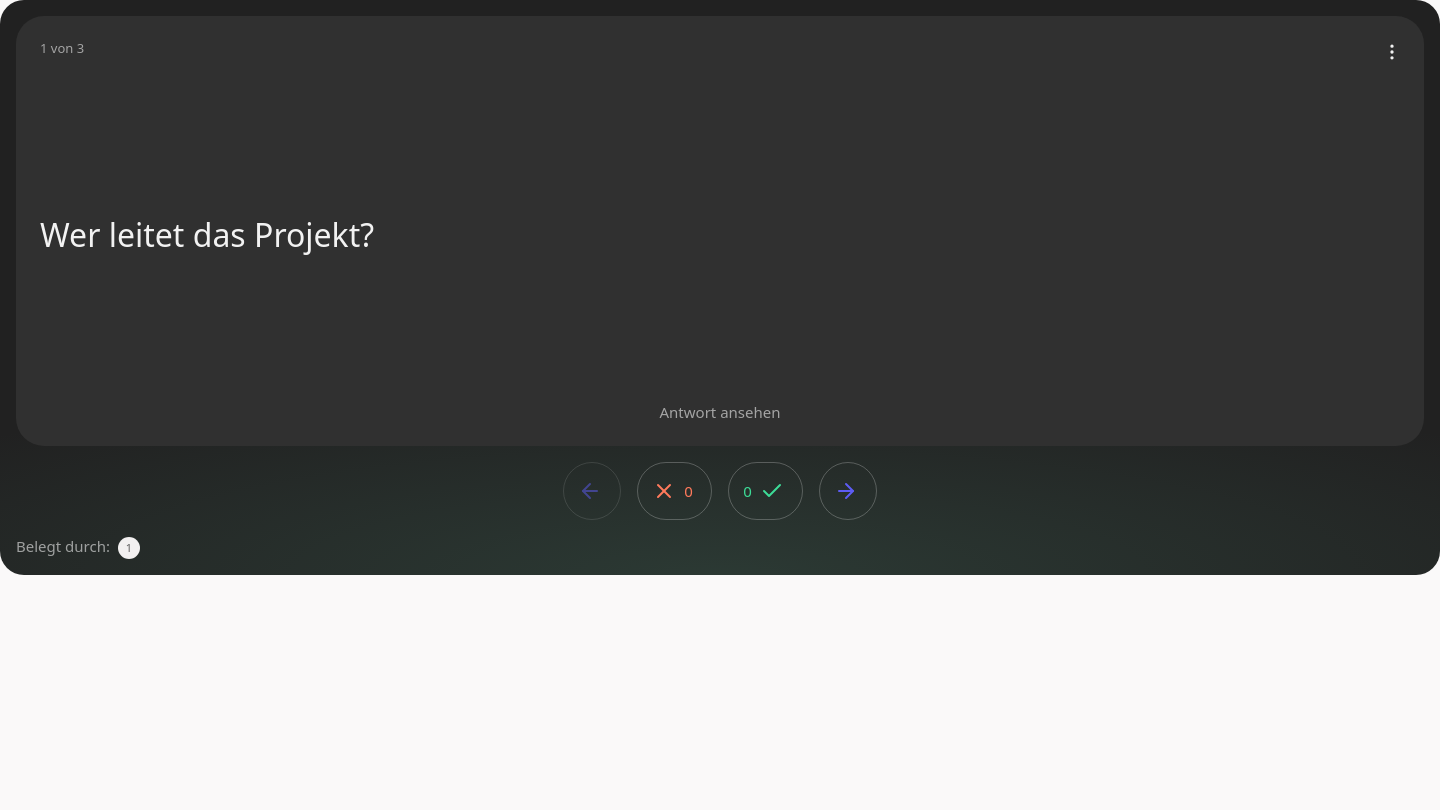
Test: FlashcardsView › moves with the round buttons and stops at both ends
Check: the button named "Vorherige Karte" is disabled, box [563,462,621,520]
Click the button named "Nächste Karte" at (848, 491), box [819,462,877,520]
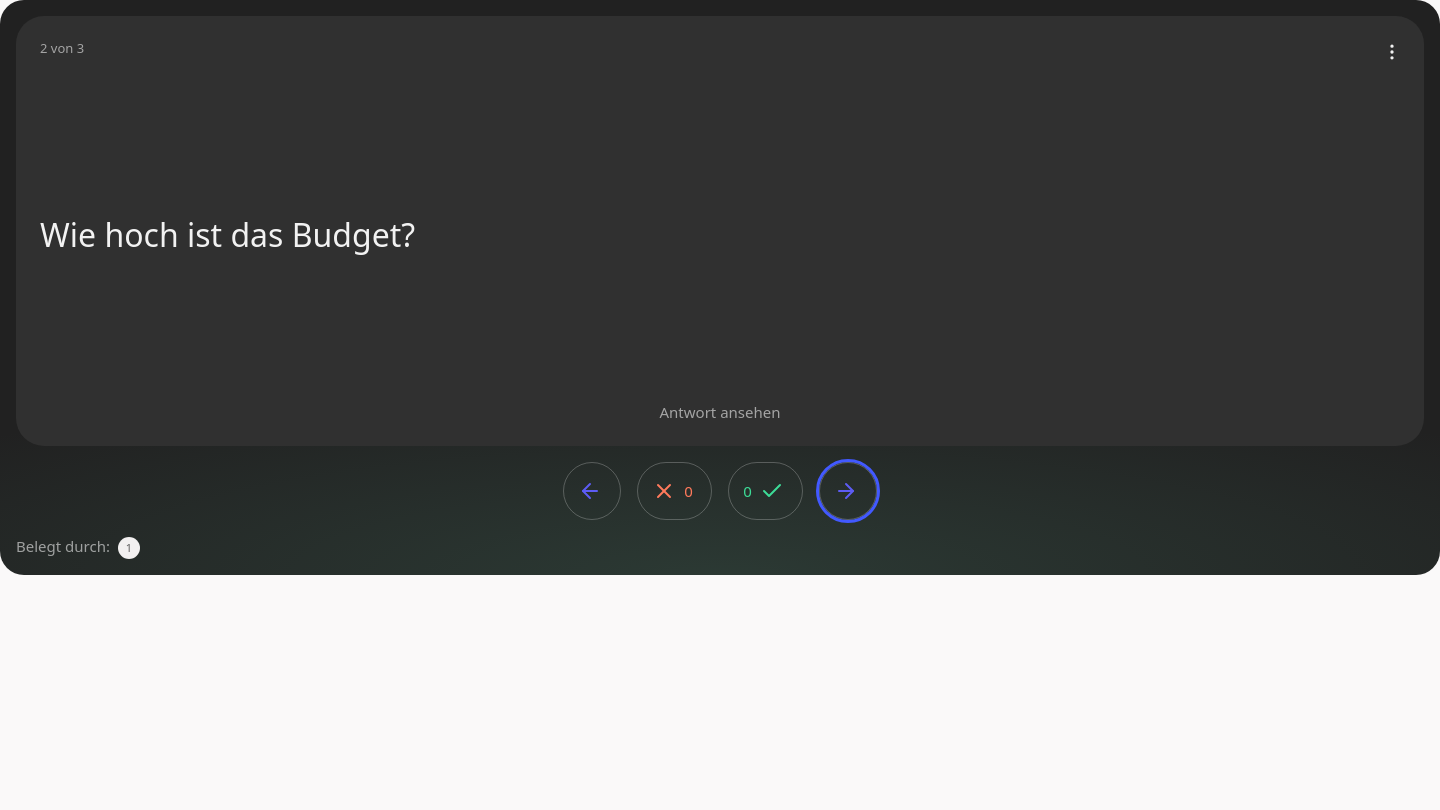
Check: the text "Wie hoch ist das Budget?" is shown, box [40,213,415,256]
Check: the text "2 von 3" is shown, box [40,40,84,57]
Click the button named "Nächste Karte" at (848, 491), box [819,462,877,520]
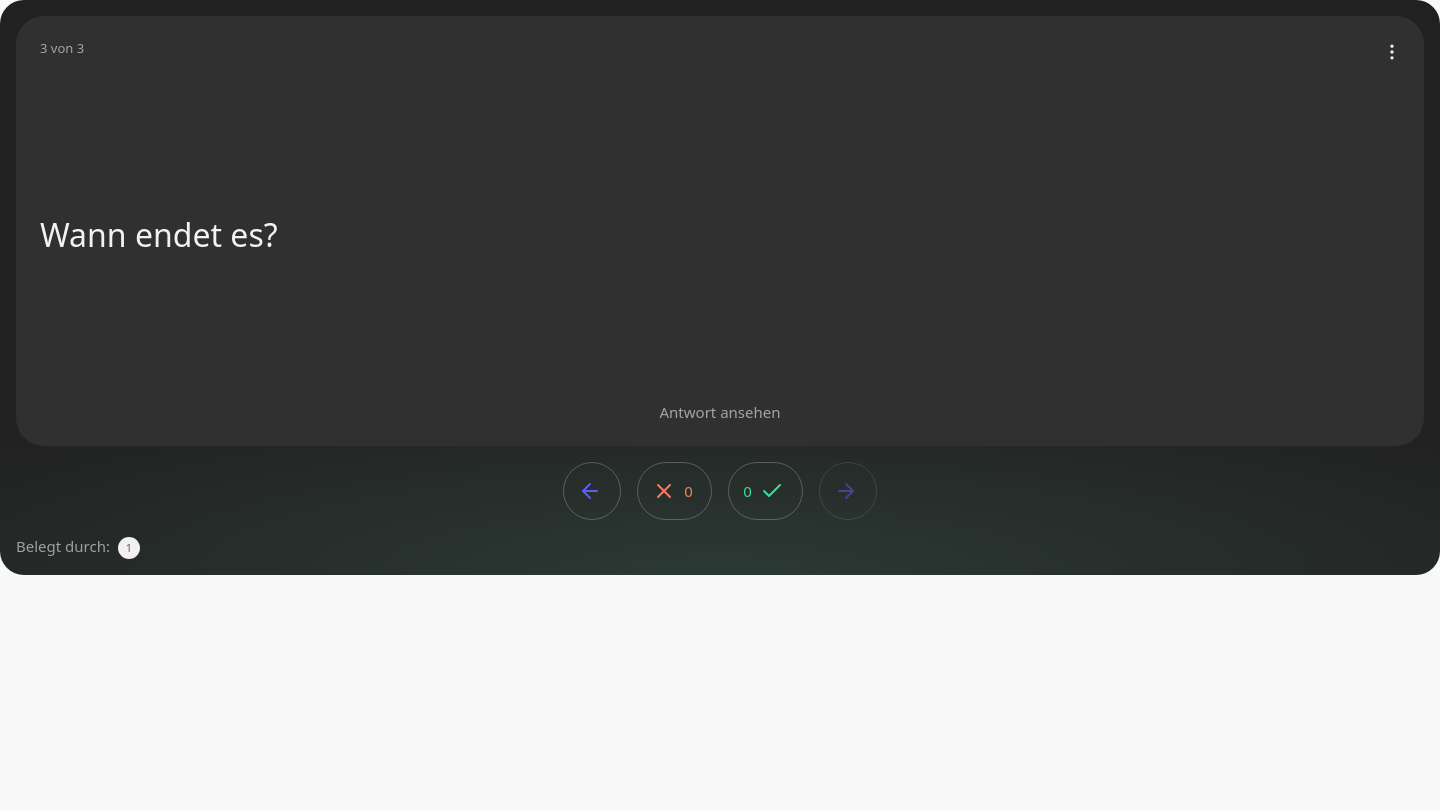
Check: the button named "Nächste Karte" is disabled, box [819,462,877,520]
Click the button named "Vorherige Karte" at (592, 491), box [563,462,621,520]
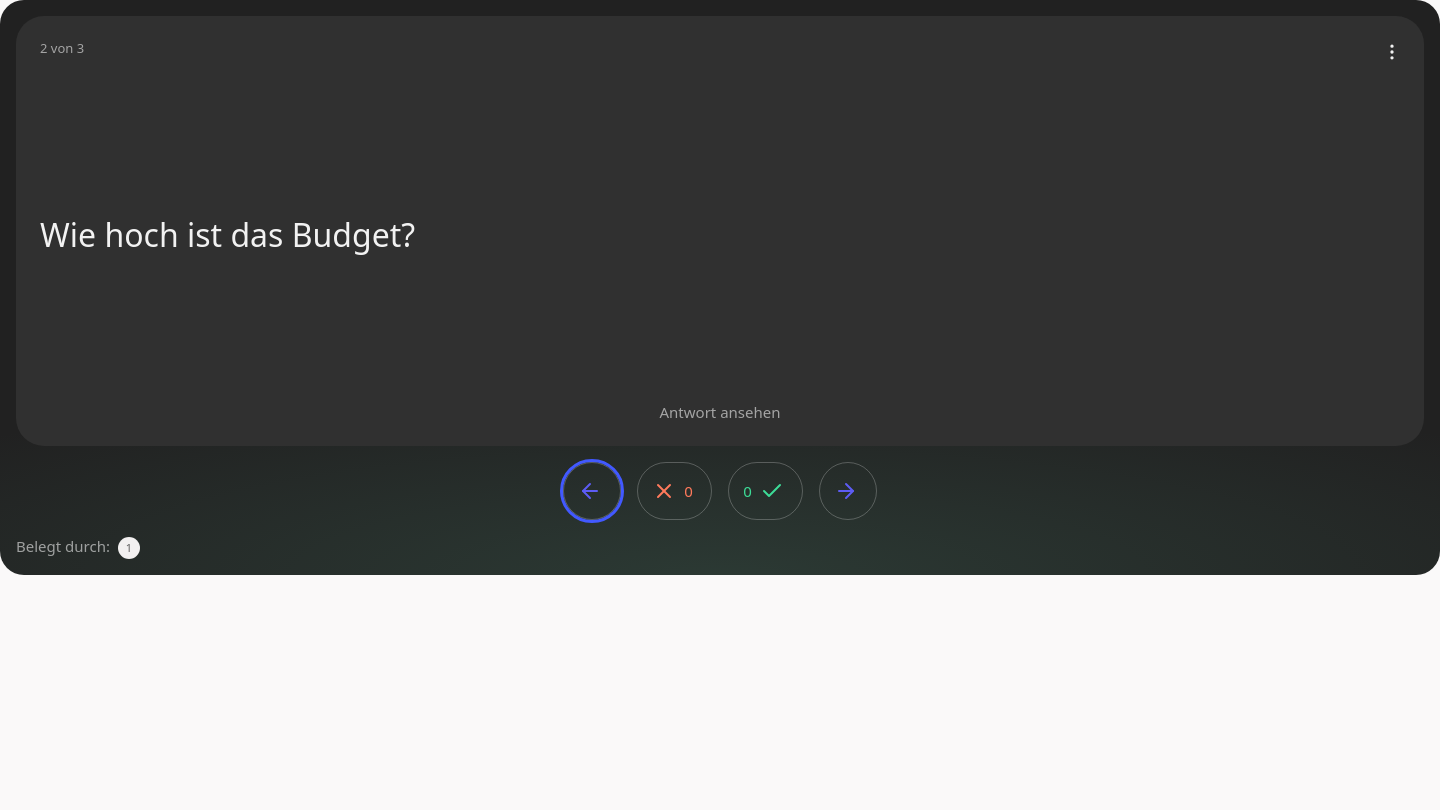
Check: the text "2 von 3" is shown, box [40,40,84,57]
